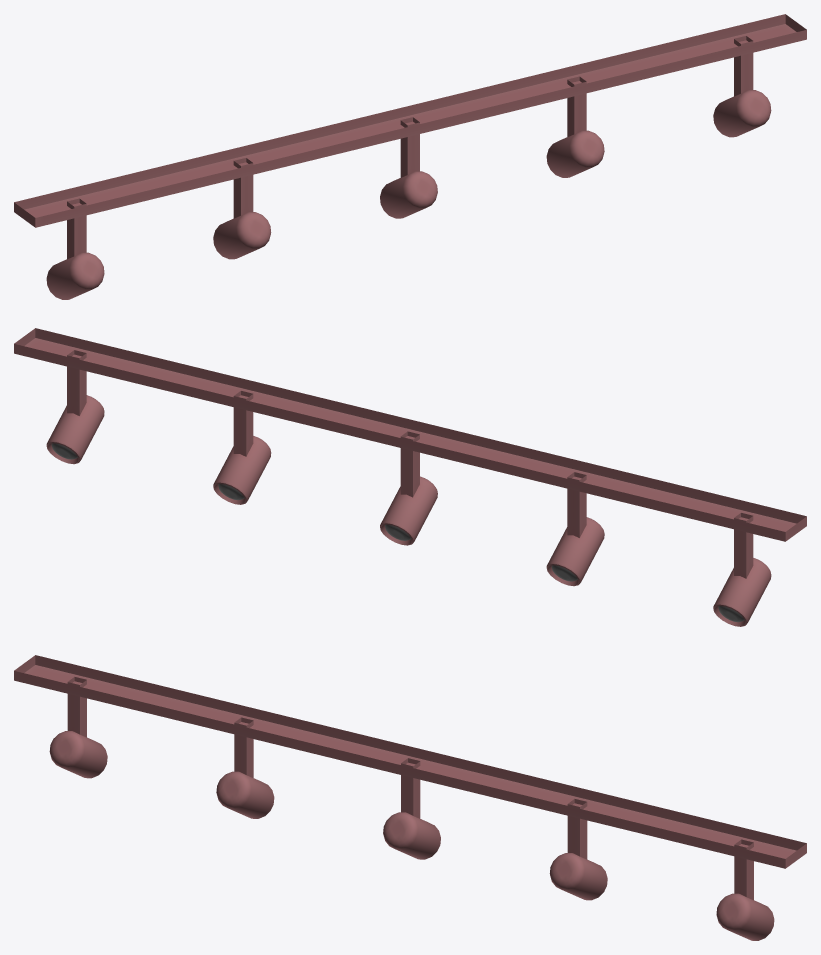
The model's file is lighting.fbx.
3 renders of one model, top to bottom at view 1: azimuth 30°, elevation 25°; view 2: azimuth 150°, elevation 25°; view 3: azimuth 330°, elevation 25°, orthographic.
Parts seen in each view (by area): view 1: lighting; view 2: lighting; view 3: lighting.
Part boxes in pixels (<box>): lighting: <box>14,14,806,299</box>; lighting: <box>14,328,806,626</box>; lighting: <box>14,655,806,940</box>.
Bounding box in the file's own units: 318 × 42.7 × 25.23.
1 material, 1 textured.
